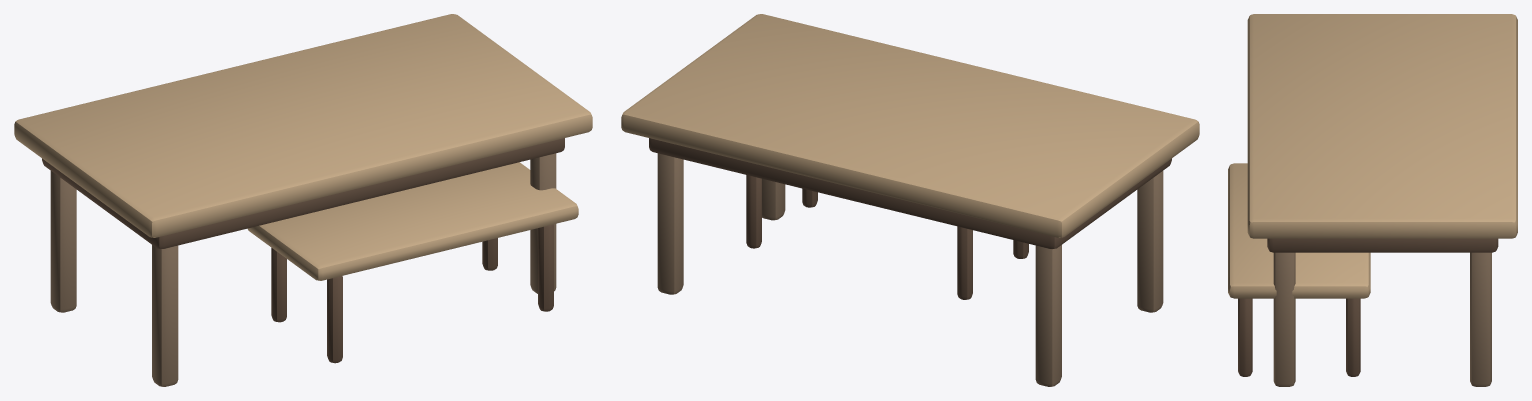
The model's file is feature_table.glb.
3 views of the same model, side by side, from view 1: azimuth 30°, elevation 25°; view 2: azimuth 150°, elevation 25°; view 3: azimuth 270°, elevation 25° (orthographic). The views are drawn at different scales.
Visible parts, largest first — view 1: feature_table; view 2: feature_table; view 3: feature_table.
Part boxes in pixels (x1,y1,x2,y2): feature_table: [14, 14, 592, 386]; feature_table: [621, 14, 1199, 386]; feature_table: [1228, 14, 1517, 386].
Bounding box in the file's own units: 2.02 × 0.805 × 1.18.
